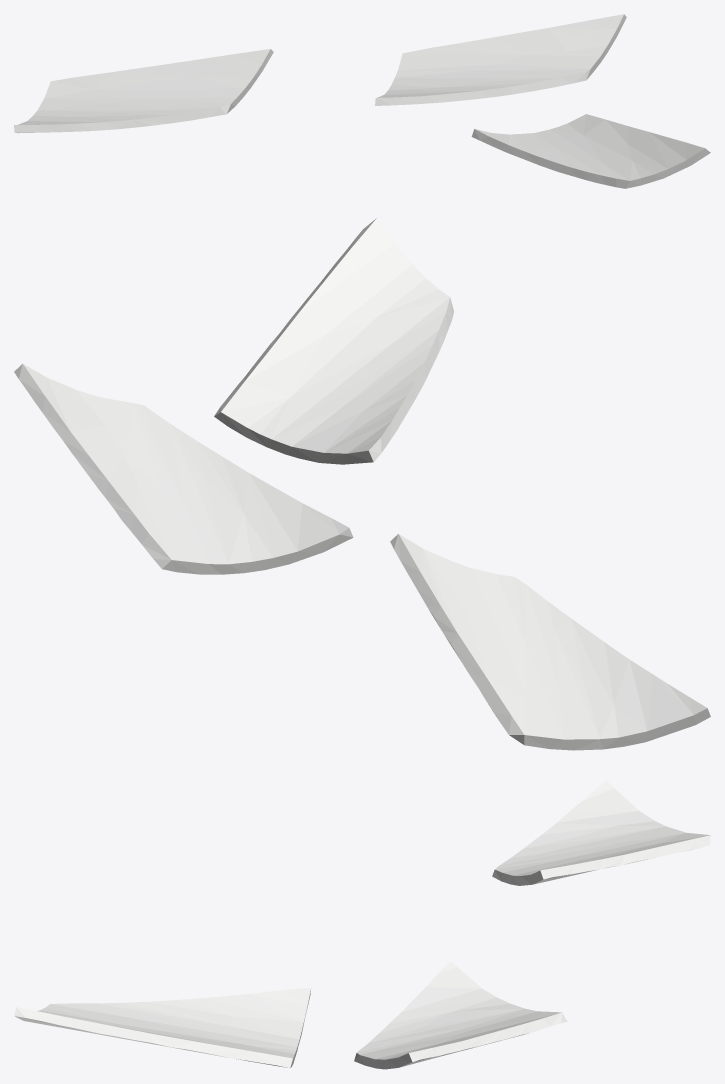
The model's file is scherbenKlein.glb.
The picture shows the model from 3 angles, top to bottom: view 1: azimuth 30°, elevation 25°; view 2: azimuth 150°, elevation 25°; view 3: azimuth 270°, elevation 25°; orthographic projection. The views are drawn at different scales.
Visible parts, largest first — view 1: 300586_23_06_15_12_34_13_2, 300586_23_06_15_12_34_13_3, 300586_23_06_15_12_34_13_1; view 2: 300586_23_06_15_12_34_13_1, 300586_23_06_15_12_34_13_3, 300586_23_06_15_12_34_13_2; view 3: 300586_23_06_15_12_34_13_1, 300586_23_06_15_12_34_13_3, 300586_23_06_15_12_34_13_2.
Boxes of the visible parts, x1,y1,x2,y2 form: 300586_23_06_15_12_34_13_2: (375,14,626,105); 300586_23_06_15_12_34_13_3: (14,49,273,133); 300586_23_06_15_12_34_13_1: (471,114,710,188); 300586_23_06_15_12_34_13_1: (214,217,453,464); 300586_23_06_15_12_34_13_3: (390,534,710,750); 300586_23_06_15_12_34_13_2: (14,363,353,574); 300586_23_06_15_12_34_13_1: (14,988,311,1068); 300586_23_06_15_12_34_13_3: (492,779,710,885); 300586_23_06_15_12_34_13_2: (354,961,567,1069).
Bounding box in the file's own units: 7.6 × 0.832 × 6.88.
3 materials, 3 textured.
